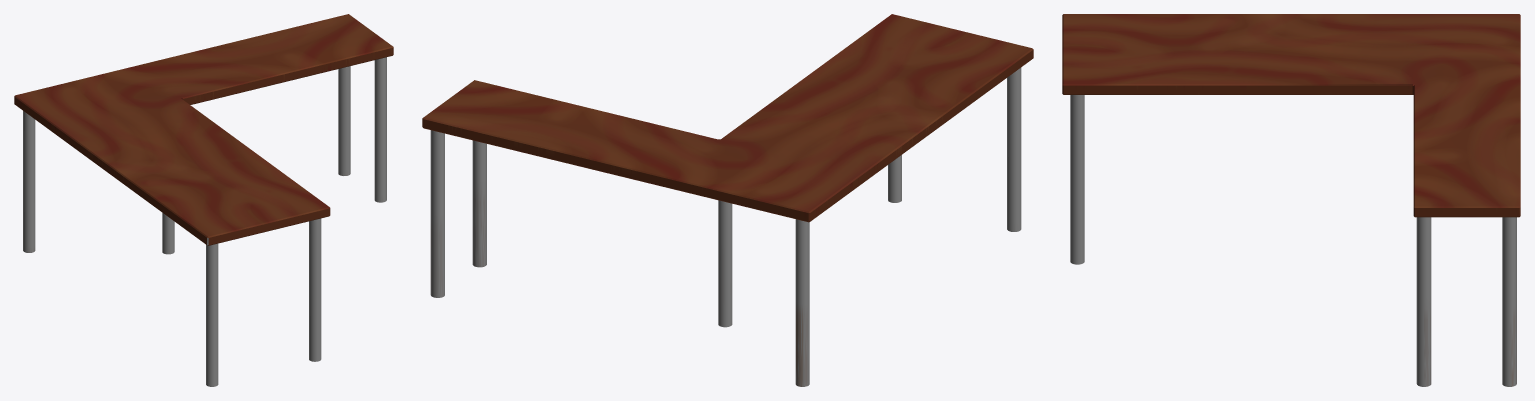
File: Desk (1).fbx
3 views of the same model, side by side, from view 1: azimuth 30°, elevation 25°; view 2: azimuth 150°, elevation 25°; view 3: azimuth 270°, elevation 25° (orthographic). The views are drawn at different scales.
Visible parts, largest first — view 1: legs6; view 2: legs6; view 3: legs6.
Boxes of the visible parts, x1,y1,x2,y2 form: legs6: (14,14,393,386); legs6: (422,14,1033,386); legs6: (1062,14,1520,386).
Size of the model in its own units: 9.37 by 4.13 by 9.39.
1 material, 1 textured.
